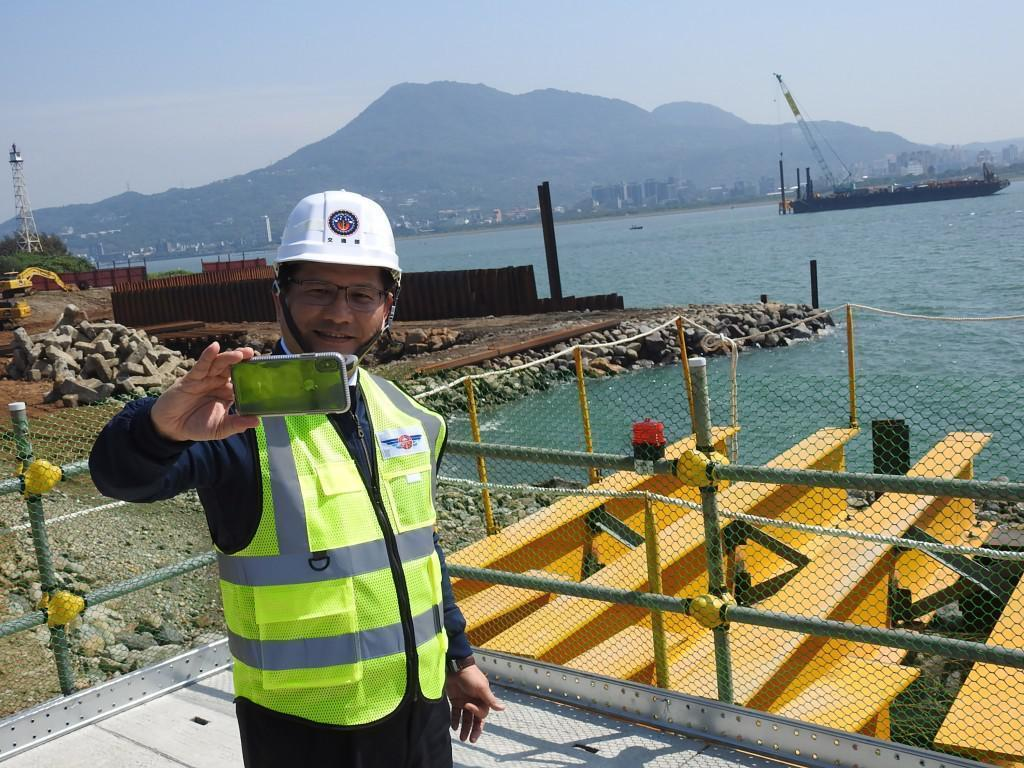helmet: (269, 190, 407, 273)
